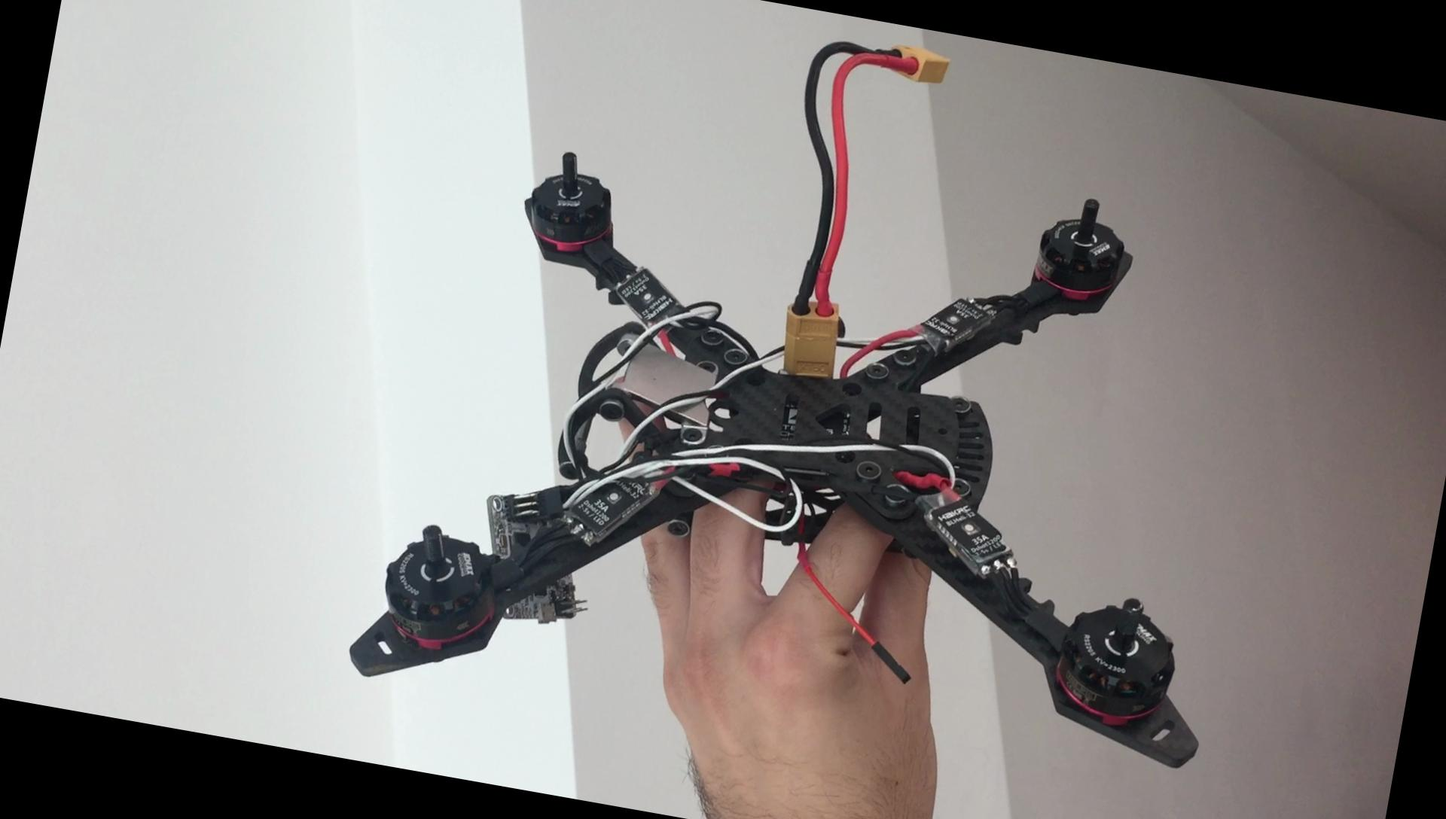drone: (332, 86, 1290, 819)
